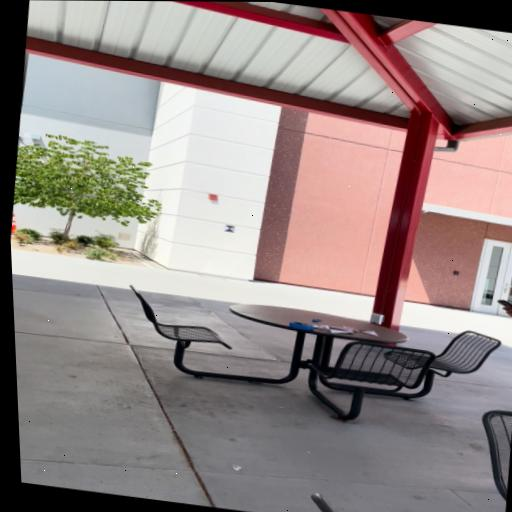target2: (223, 225, 237, 233)
